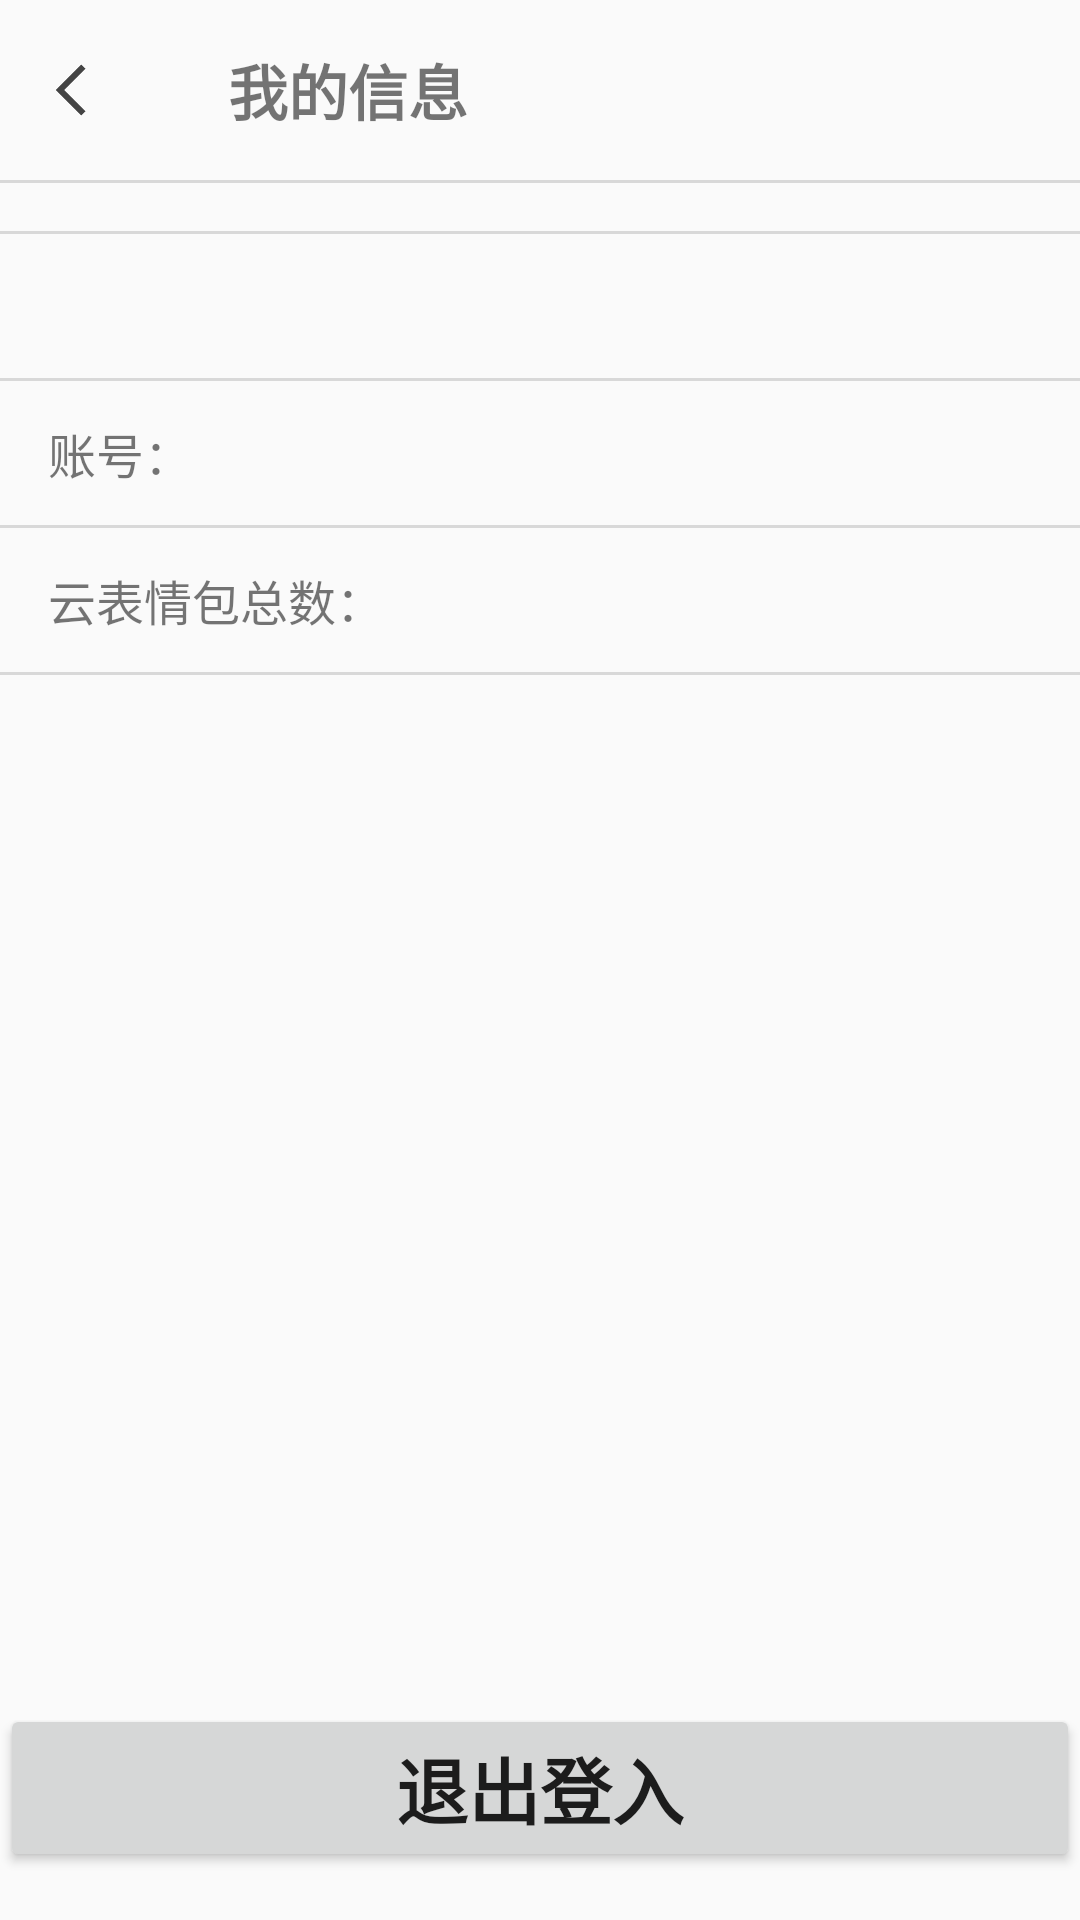

Icon click points for this 1080*1920 phone screenshot, format [x,y]:
to left: [71,90]
